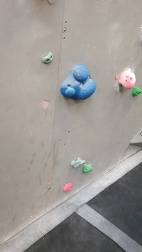Jug: (117, 68, 137, 89)
Sloper: (60, 62, 98, 100)
